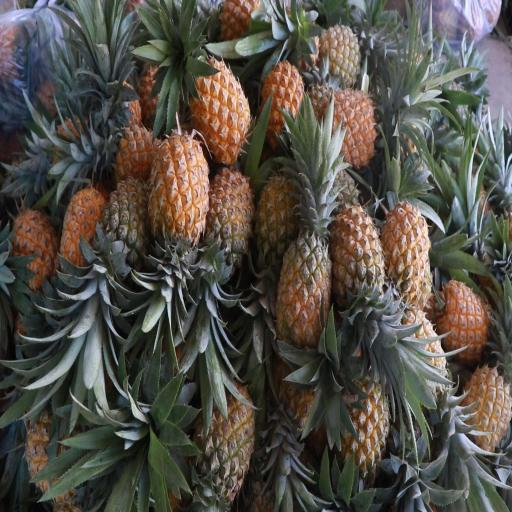------------------------------: (193, 375, 256, 512), (272, 221, 335, 350), (98, 168, 155, 272), (253, 164, 303, 280), (317, 20, 365, 90)
Pineapple - v8 v1: (146, 128, 214, 263), (188, 57, 252, 173), (328, 199, 386, 318), (378, 198, 434, 318), (311, 83, 379, 175), (332, 372, 392, 473), (8, 192, 61, 298), (202, 162, 256, 261), (60, 174, 109, 282), (258, 46, 308, 151), (459, 362, 512, 458), (439, 273, 497, 355)
